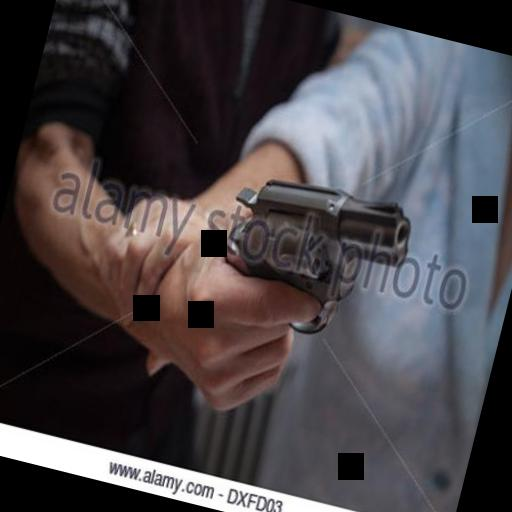Handgun: (204, 154, 419, 358)
